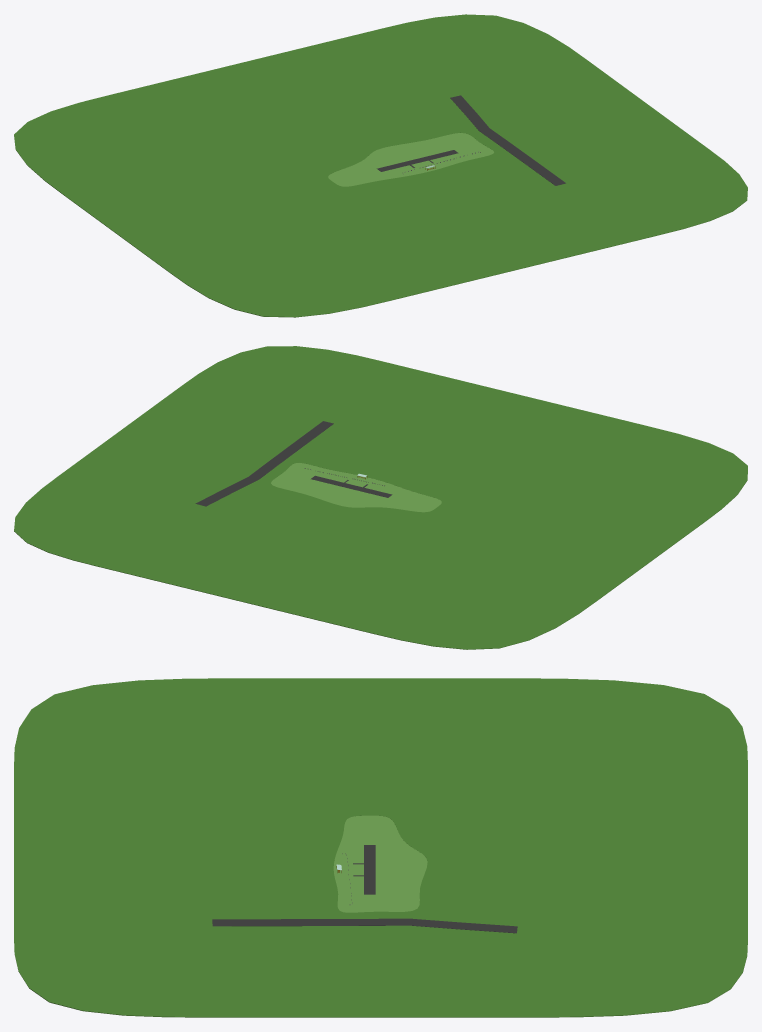
File: BadgerField.glb
The picture shows the model from 3 angles, top to bottom: view 1: azimuth 30°, elevation 25°; view 2: azimuth 150°, elevation 25°; view 3: azimuth 270°, elevation 25°; orthographic projection. The views are drawn at different scales.
Visible parts, largest first — view 1: Outfield-col, Field-col, Road; view 2: Outfield-col, Field-col, Road; view 3: Outfield-col, Field-col, Road, Runway-col.
Boxes of the visible parts, x1=… form: Outfield-col: x1=14, y1=14, x2=747, y2=317; Field-col: x1=328, y1=133, x2=493, y2=186; Road: x1=450, y1=95, x2=565, y2=185; Outfield-col: x1=14, y1=346, x2=747, y2=649; Field-col: x1=271, y1=462, x2=441, y2=512; Road: x1=195, y1=421, x2=333, y2=506; Outfield-col: x1=14, y1=678, x2=747, y2=1017; Field-col: x1=333, y1=815, x2=427, y2=912; Road: x1=212, y1=918, x2=517, y2=933; Runway-col: x1=353, y1=845, x2=375, y2=894.
Size of what is drawn, in the model's own units: 594 by 3.93 by 544.
